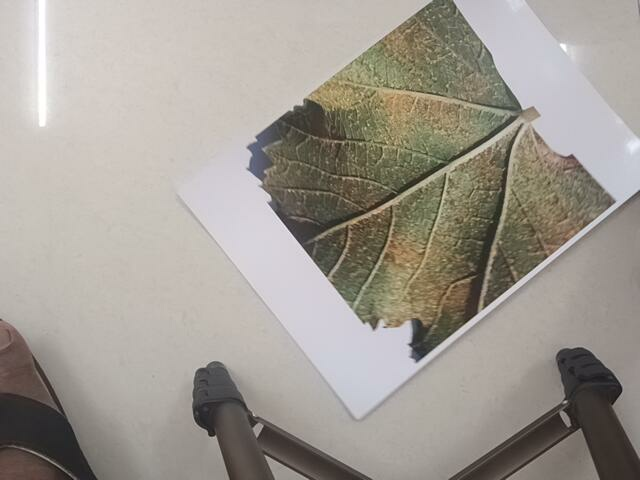Grape_Rust_Fungus: (260, 1, 620, 346)
